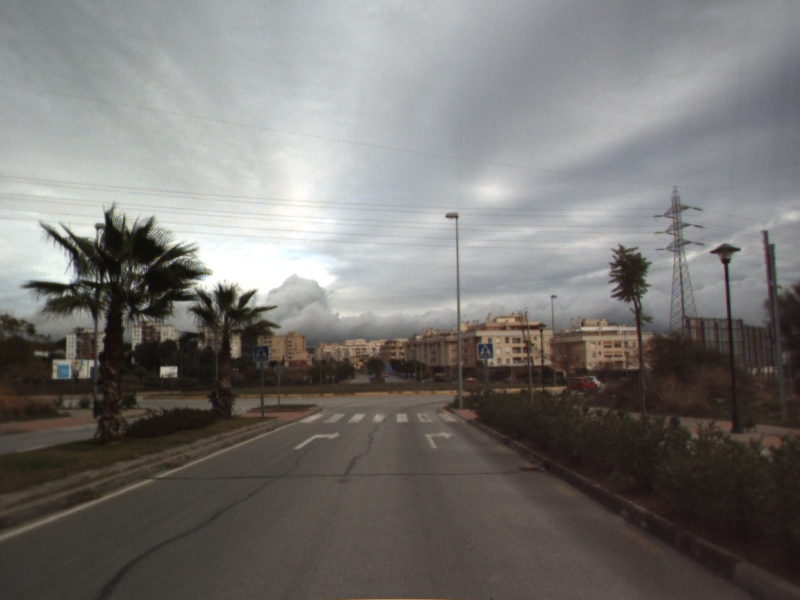RIGHT: (291, 429, 342, 451), (423, 429, 454, 450)
